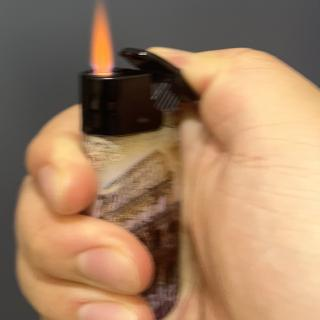fire: (84, 0, 120, 76)
